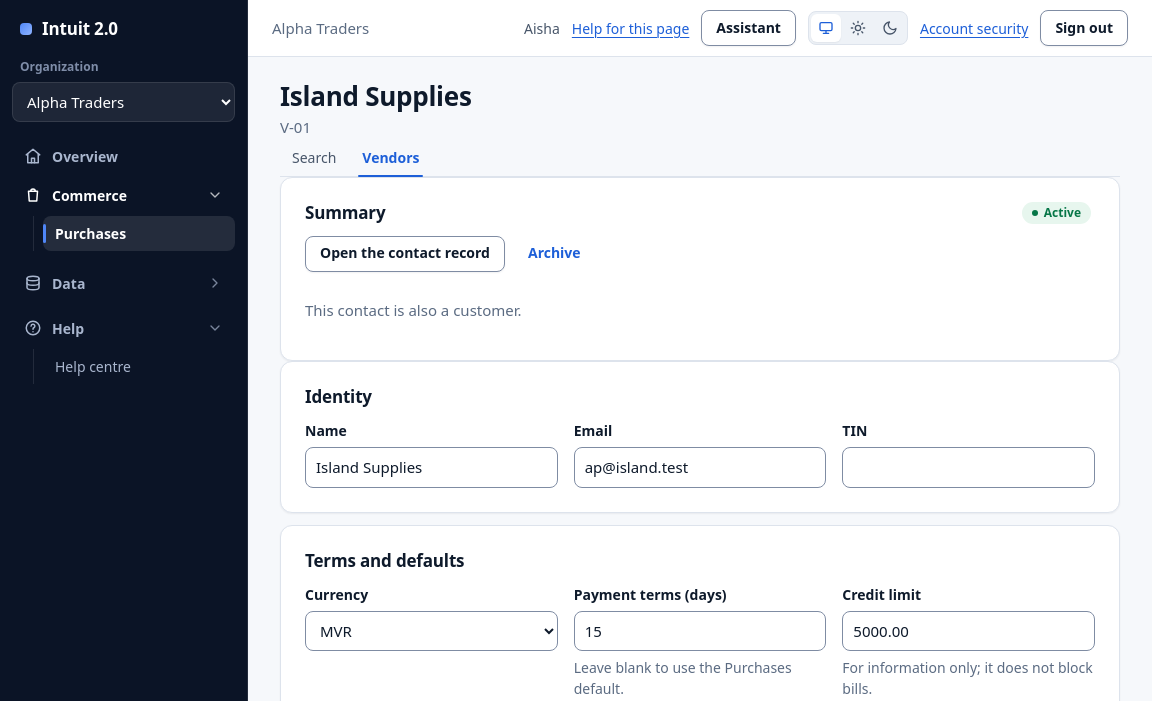
Test: vendor detail › archives with the version and shows the archived note
Step 1. Click the button "Archive" → (554, 254), box x1=513 y1=236 x2=596 y2=272
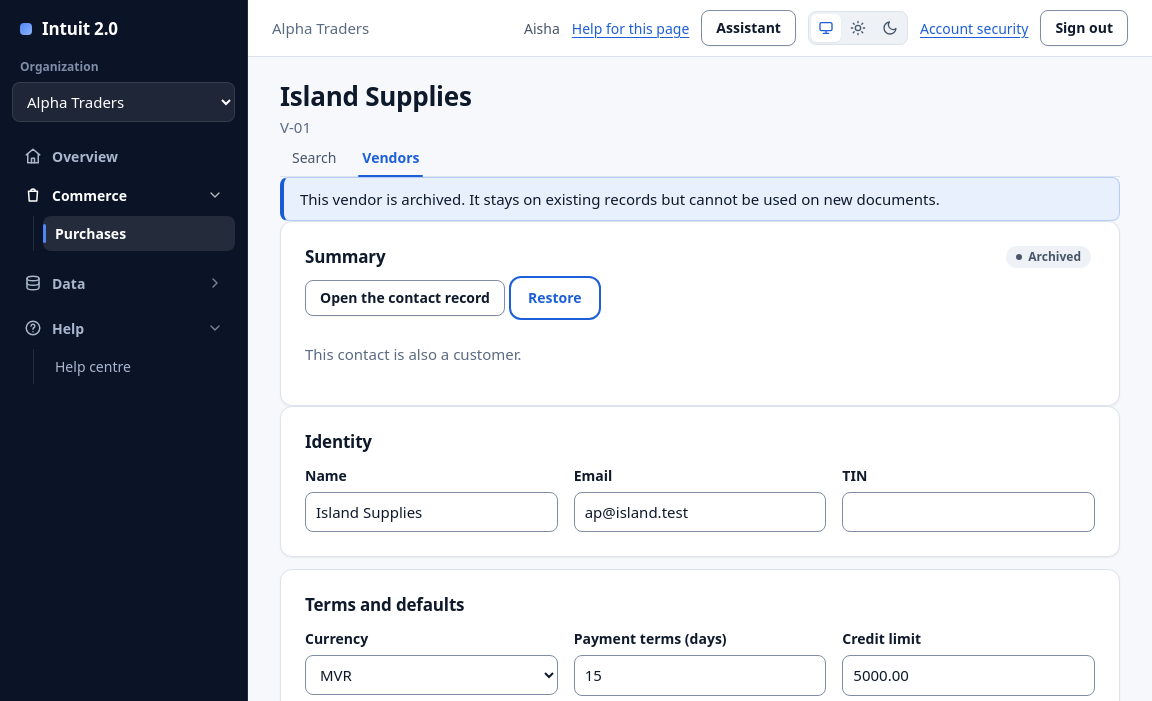
Now the text "This vendor is archived. It stays on existing records but cannot be used on new documents." is shown, box x1=300 y1=189 x2=940 y2=209
Now the button "Restore" is shown, box x1=513 y1=280 x2=597 y2=316
